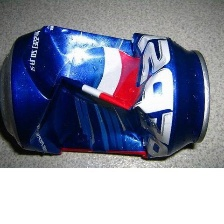can: (0, 22, 213, 160)
